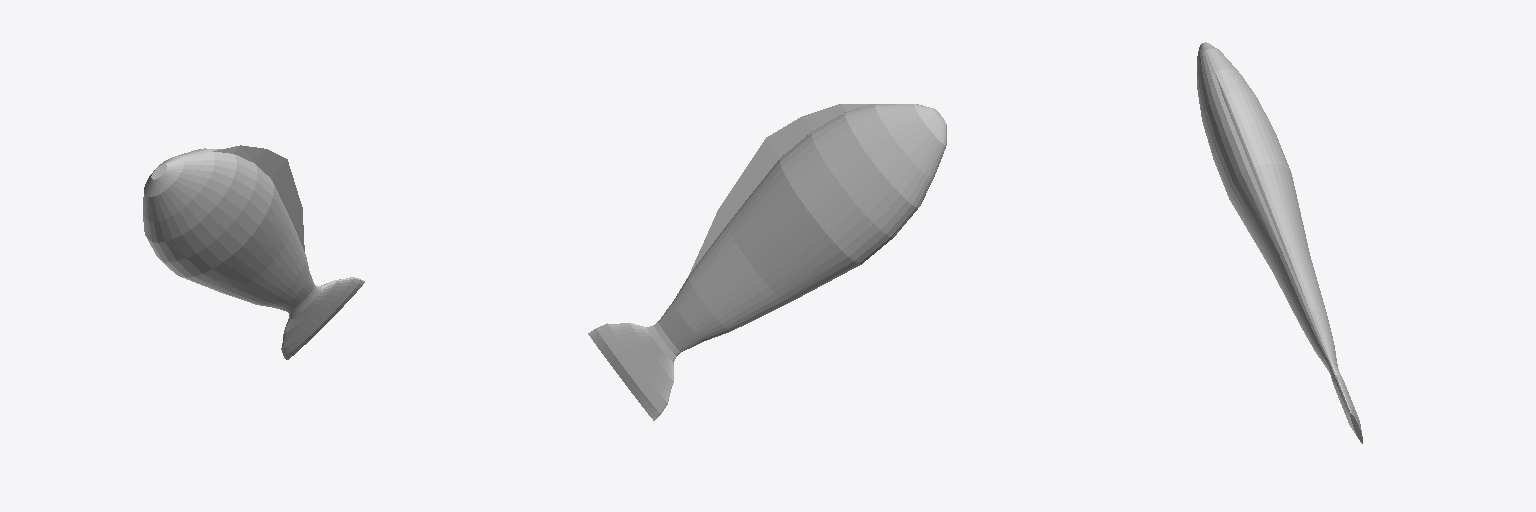
File: pez copia.obj
3 renders of one model, left to right at view 1: azimuth 30°, elevation 25°; view 2: azimuth 150°, elevation 25°; view 3: azimuth 270°, elevation 25°, orthographic.
Bounding box in the file's own units: 1065 × 1075 × 533.